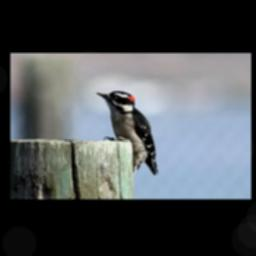Woodpecker: (95, 90, 159, 174)
